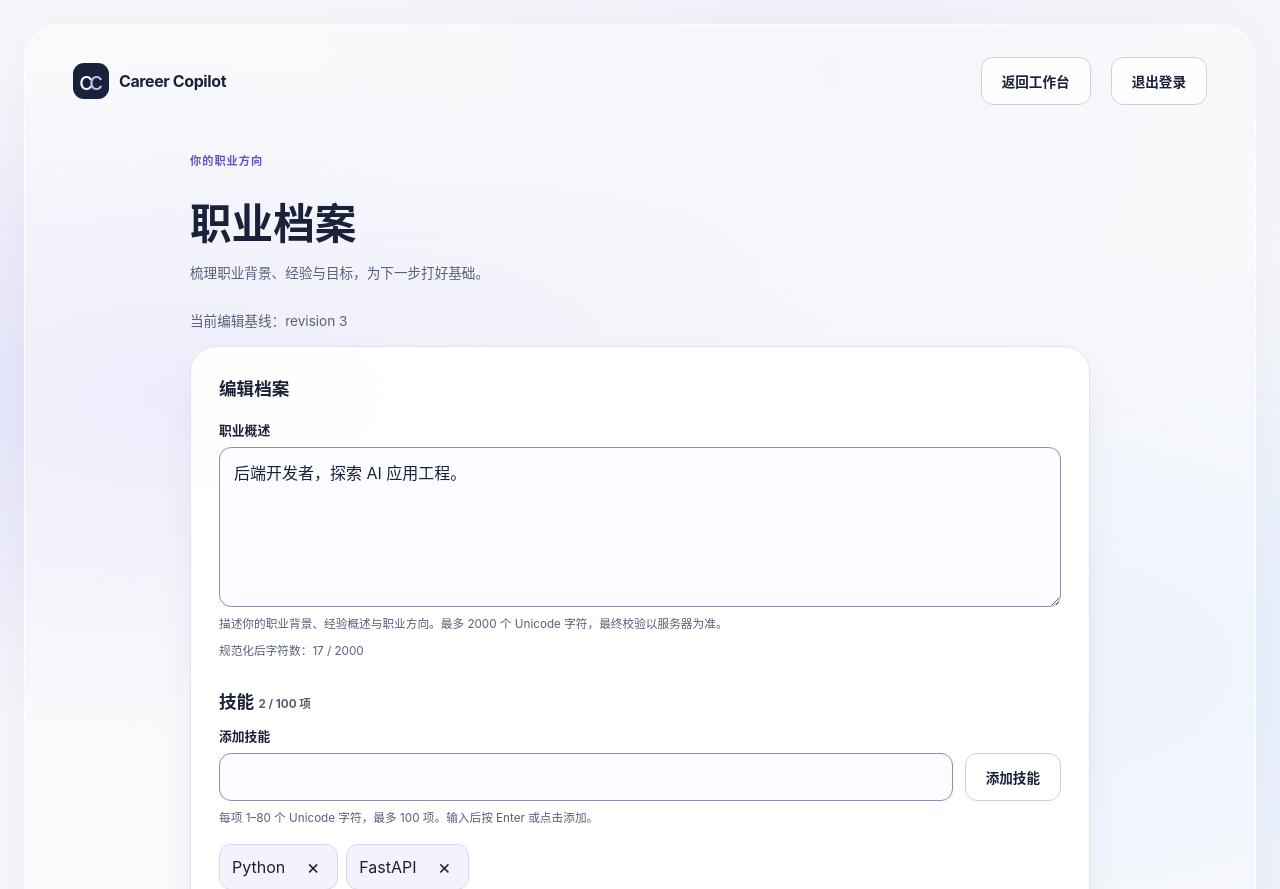
Test case: unadded list input is retained and prevents accidental save
Replace the text in the text box labelled "职业概述" with "我正在编辑的草稿" at (640, 527), box [219,447,1061,607]
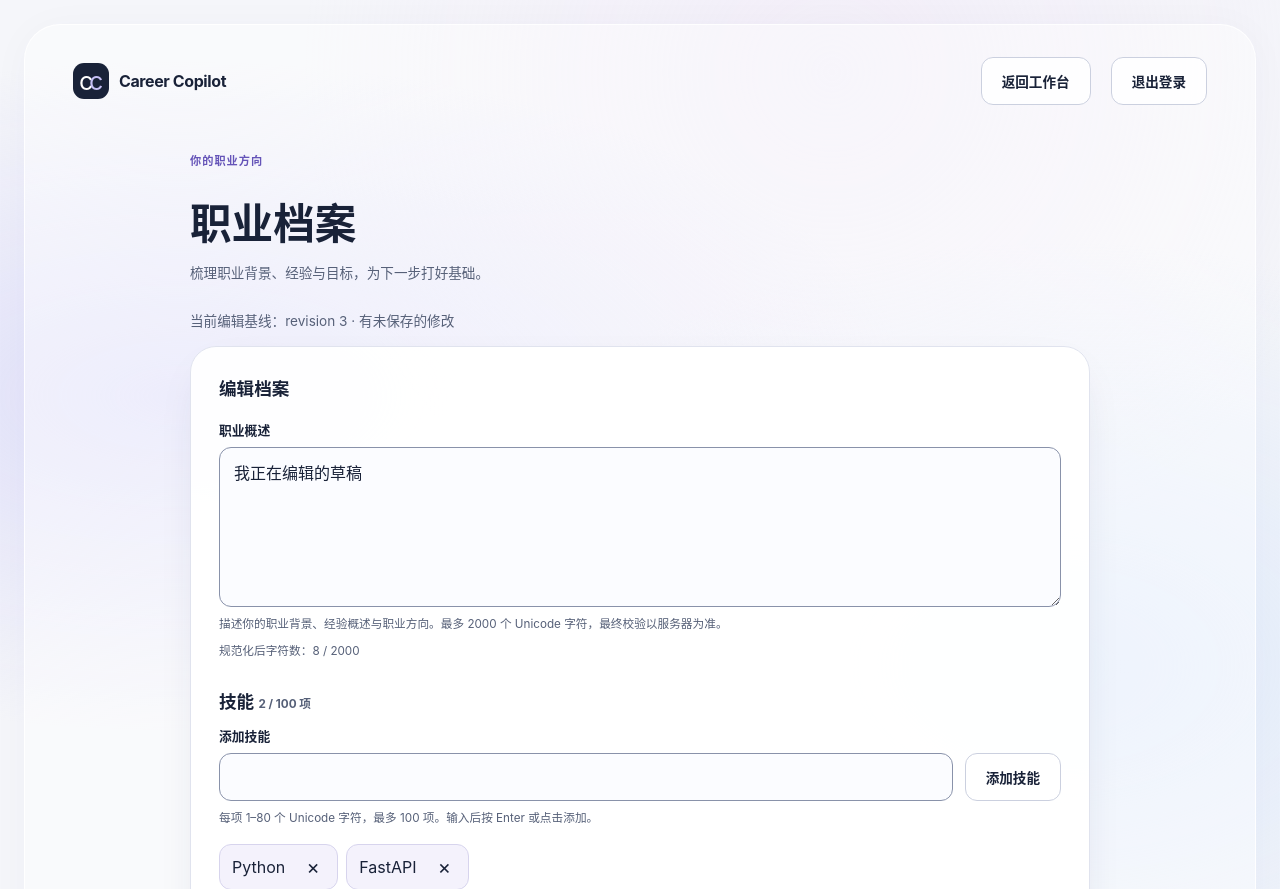
Type "未添加技能" into the field labelled "添加技能" at (586, 777), box [219,753,953,801]
(page scrolled)
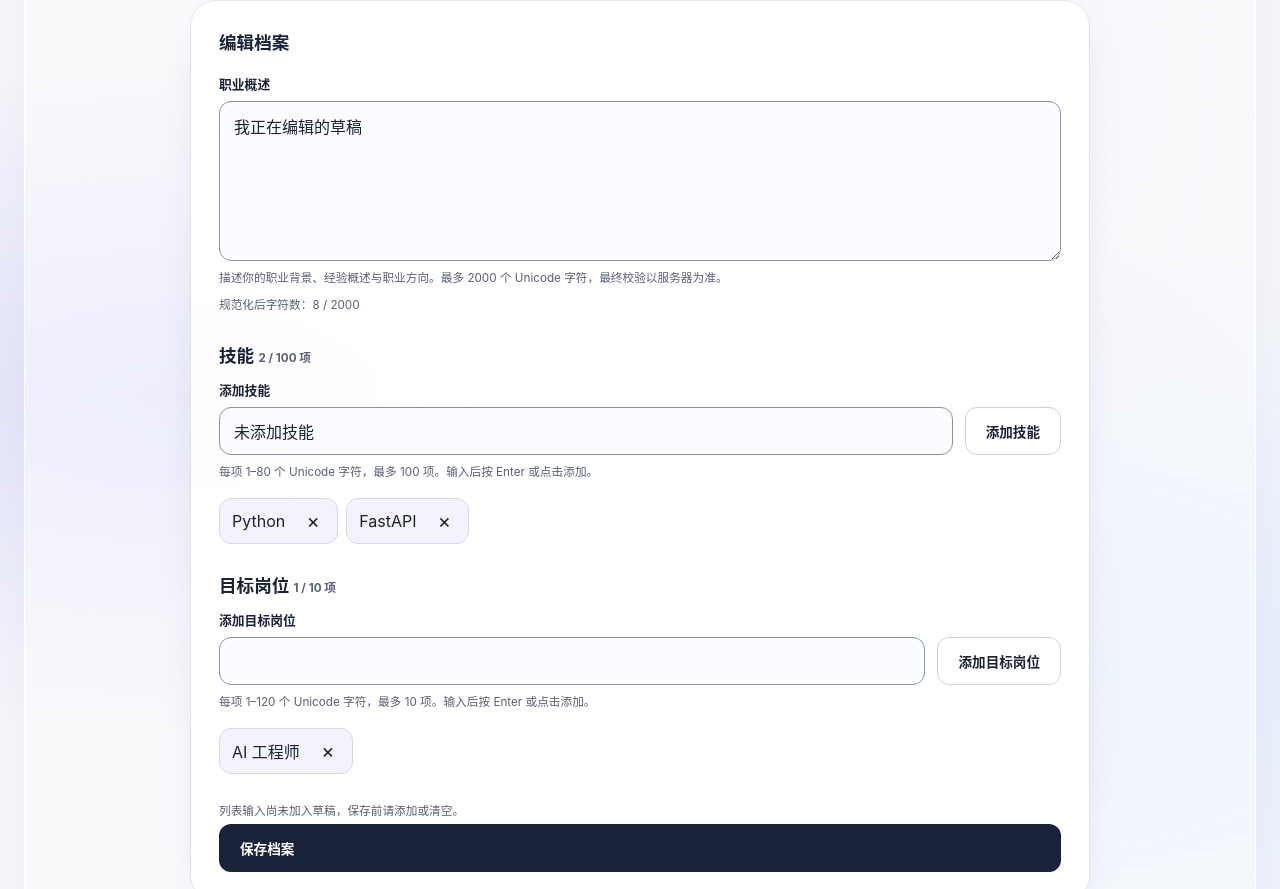
Submit the form
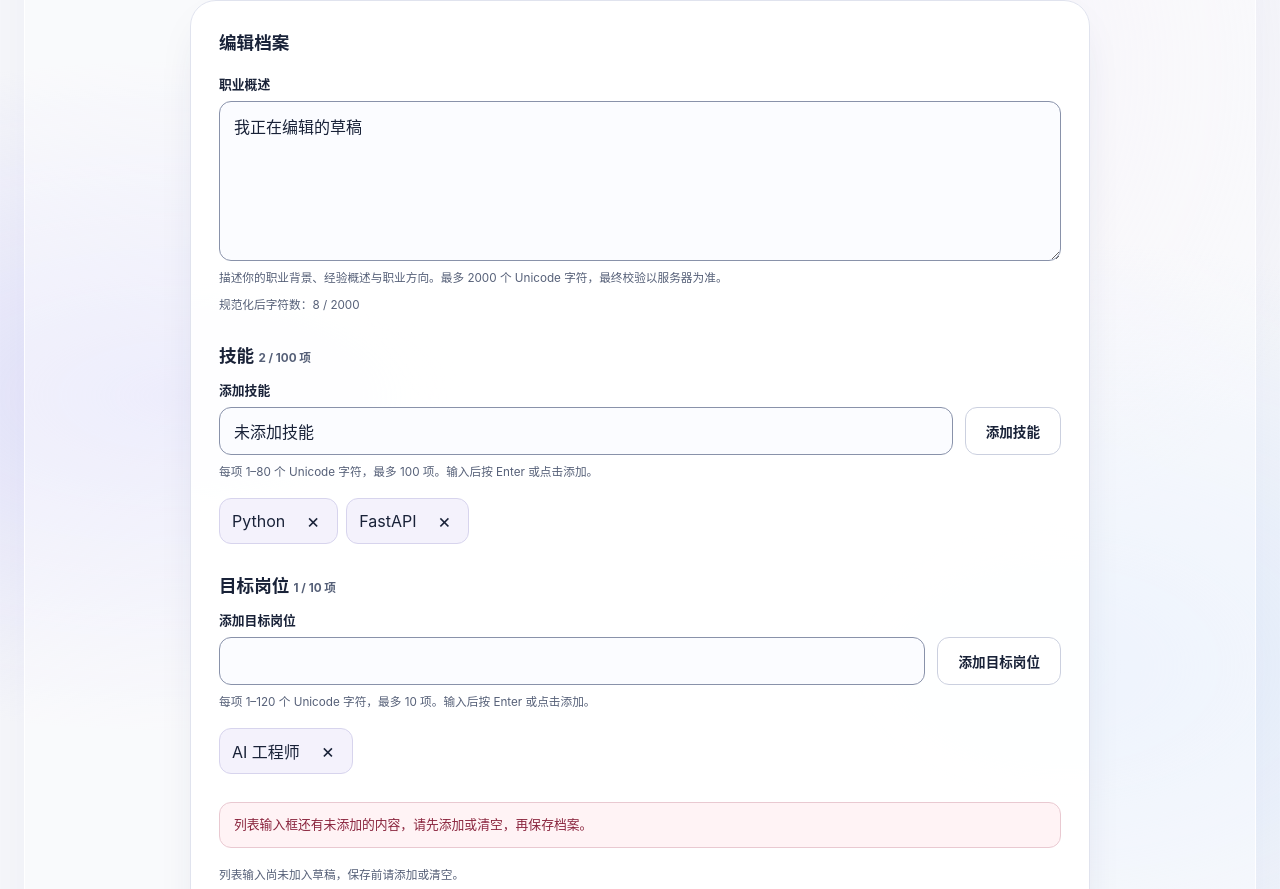
Now the text "列表输入框还有未添加的内容，请先添加或清空，再保存档案。" is shown, box [219,802,1061,848]
